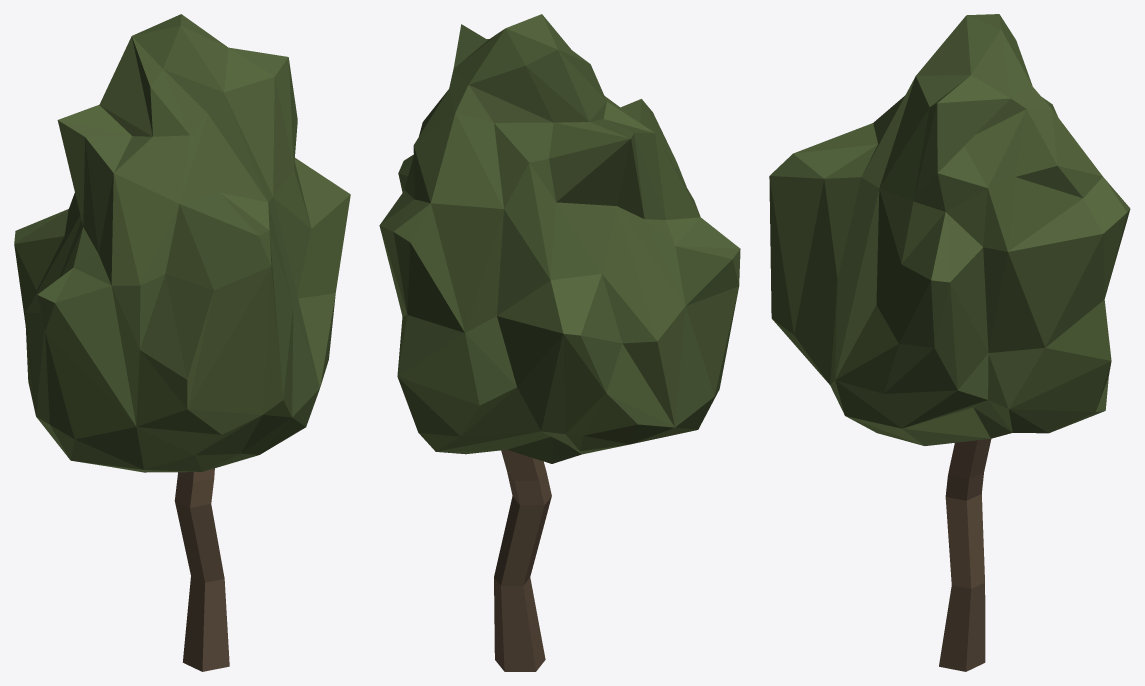
Rendered from Tree_22.gltf.
3 views of the same model, side by side, from view 1: azimuth 30°, elevation 25°; view 2: azimuth 150°, elevation 25°; view 3: azimuth 270°, elevation 25° (orthographic). The views are drawn at different scales.
Visible parts, largest first — view 1: Tree_22; view 2: Tree_22; view 3: Tree_22.
Boxes of the visible parts, x1,y1,x2,y2 form: Tree_22: (14,14,350,671); Tree_22: (379,14,740,671); Tree_22: (769,14,1130,671).
Bounding box in the file's own units: 0.4433 × 0.8553 × 0.4411.
Materials: 1 (1 with a texture image).
